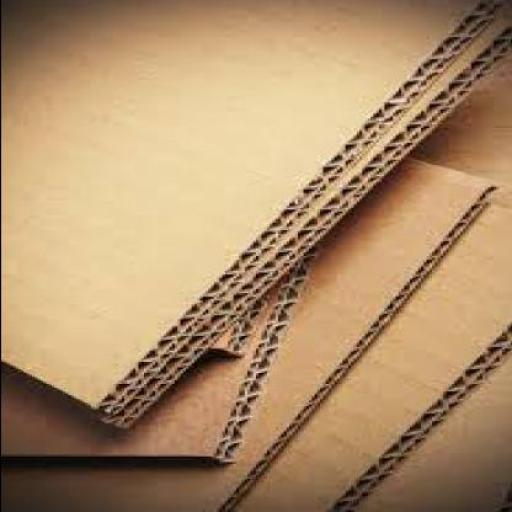cardboard: (0, 2, 510, 430), (2, 1, 492, 420), (1, 156, 496, 511), (228, 1, 510, 511), (1, 245, 313, 468), (344, 351, 510, 511), (196, 291, 272, 360)
